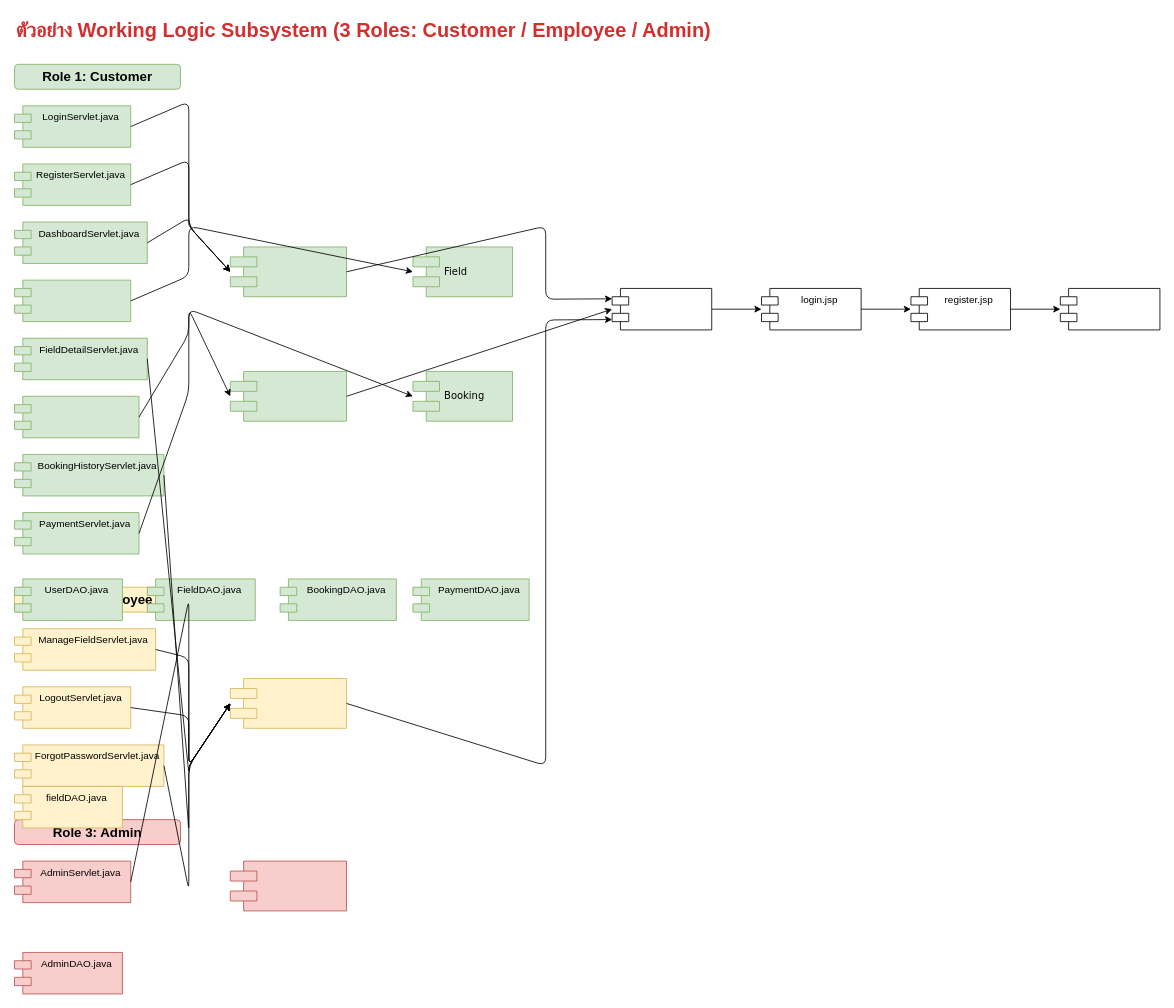
Image size: 1174x1008. Some labels were removed from this diagram. Here are the shapes that lost their labels. From the top down, the centre of each, then its label:
the point at 288,271: Customer
the point at 72,300: FieldServlet.java
the point at 661,309: index.jsp
the point at 1109,309: System.exe
the point at 76,416: BookingServlet.java
the point at 288,396: Account
the point at 288,703: Employee
the point at 288,885: Admin
